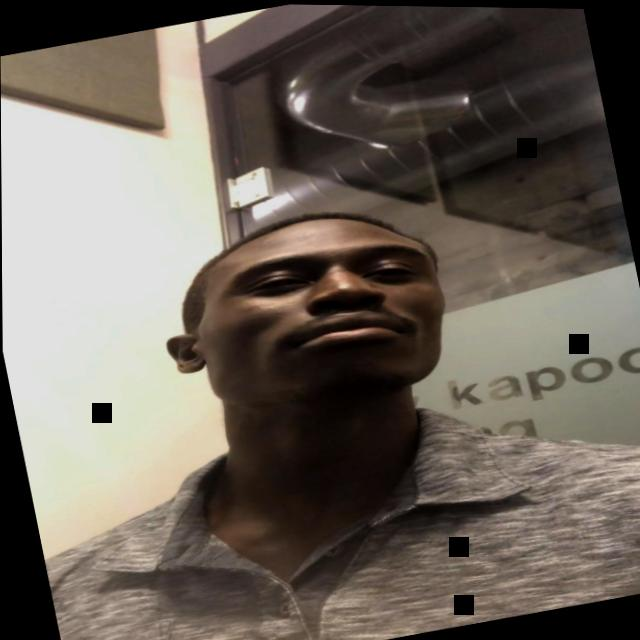NO-Mask: (185, 208, 463, 422)
